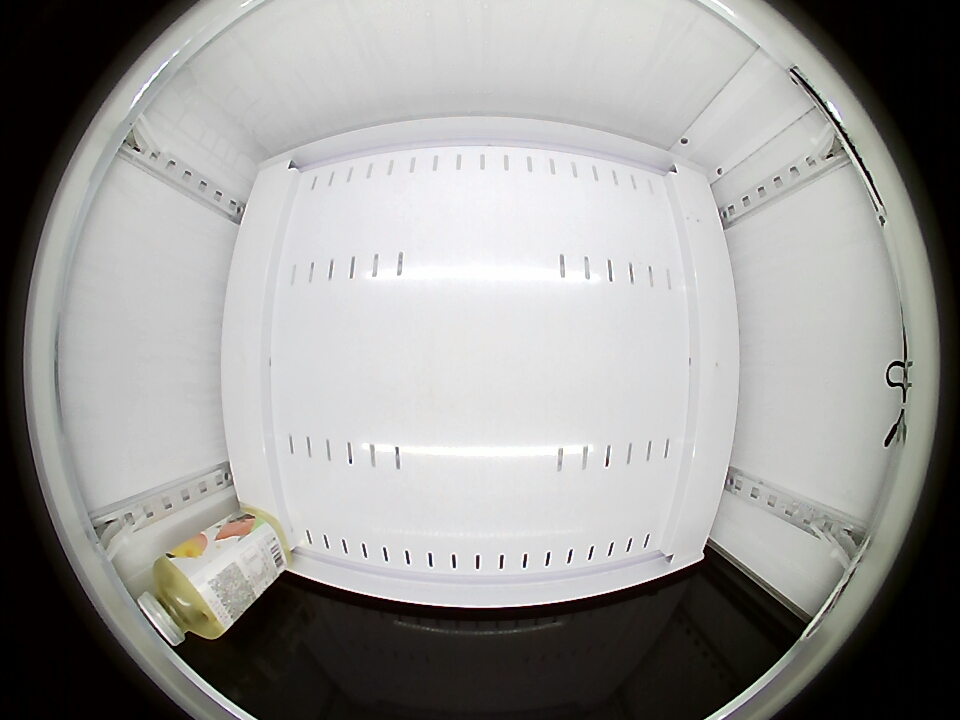chapai2: (137, 551, 227, 645)
